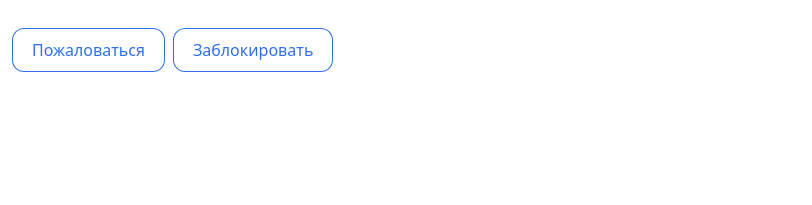
<Safety> › blocks after one confirmation and hands the closed match back
Click the button "Заблокировать" at (253, 50), box [173,28,333,72]
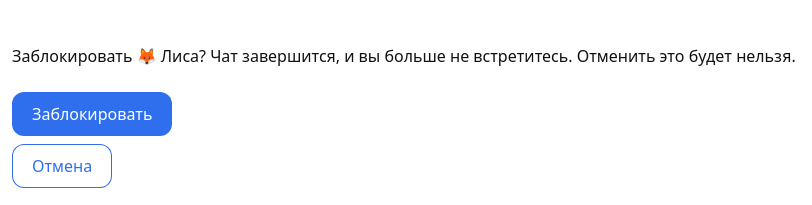
Check: the text "Заблокировать 🦊 Лиса? Чат завершится, и вы больше не встретитесь. Отменить это будет нельзя." is shown, box [12,45,796,67]
Click the button "Отмена" at (62, 166), box [12,144,112,188]
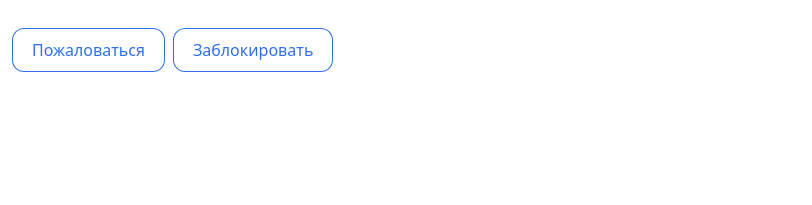
Click the button "Заблокировать" at (253, 50), box [173,28,333,72]
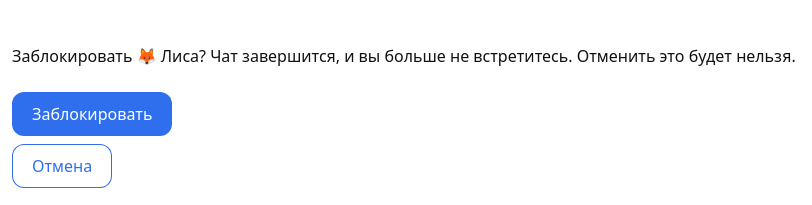
Click the button "Заблокировать" at (92, 114), box [12,92,172,136]
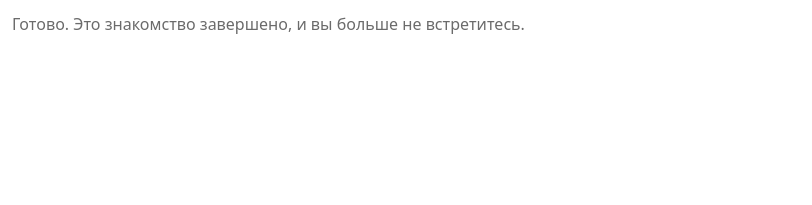
Check: the text "Готово. Это знакомство завершено, и вы больше не встретитесь." is shown, box [12,13,525,35]
